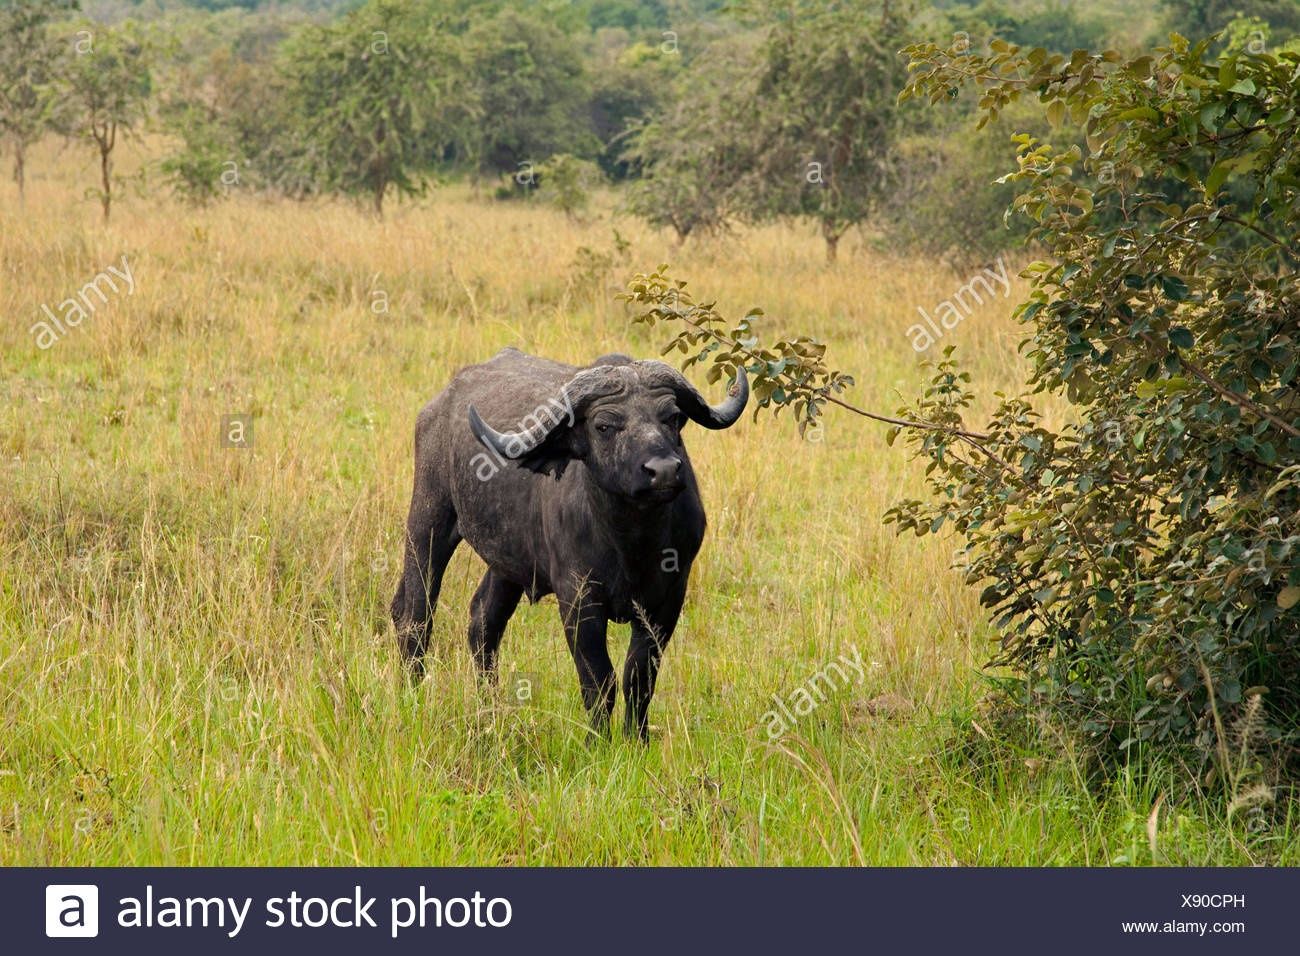buffalo: (385, 340, 766, 769)
